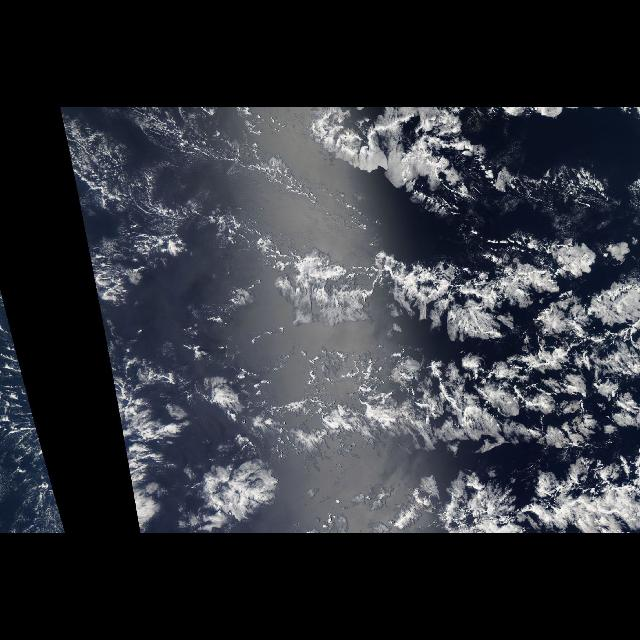Fish: (256, 224, 636, 462)
Flower: (130, 115, 640, 513)
Gravel: (67, 111, 311, 259)
Sugar: (66, 110, 304, 224)
